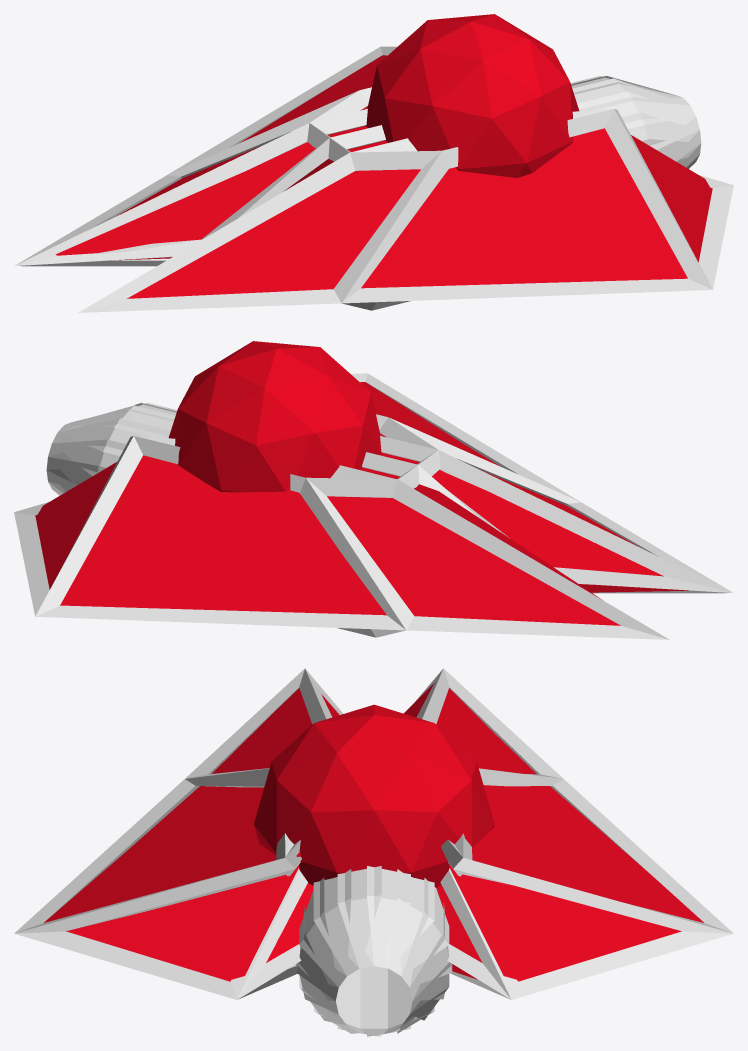
The model's file is simpleSpaceship.fbx.
3 renders of one model, top to bottom at view 1: azimuth 30°, elevation 25°; view 2: azimuth 150°, elevation 25°; view 3: azimuth 270°, elevation 25°, orthographic. The views are drawn at different scales.
Visible parts, largest first — view 1: Icosphere; view 2: Icosphere; view 3: Icosphere.
Boxes of the visible parts, box(x1,y1,x2,y2) form: Icosphere: box(15, 14, 733, 312); Icosphere: box(14, 341, 732, 639); Icosphere: box(14, 668, 733, 1036).
Bounding box in the file's own units: 926 × 313 × 837.
